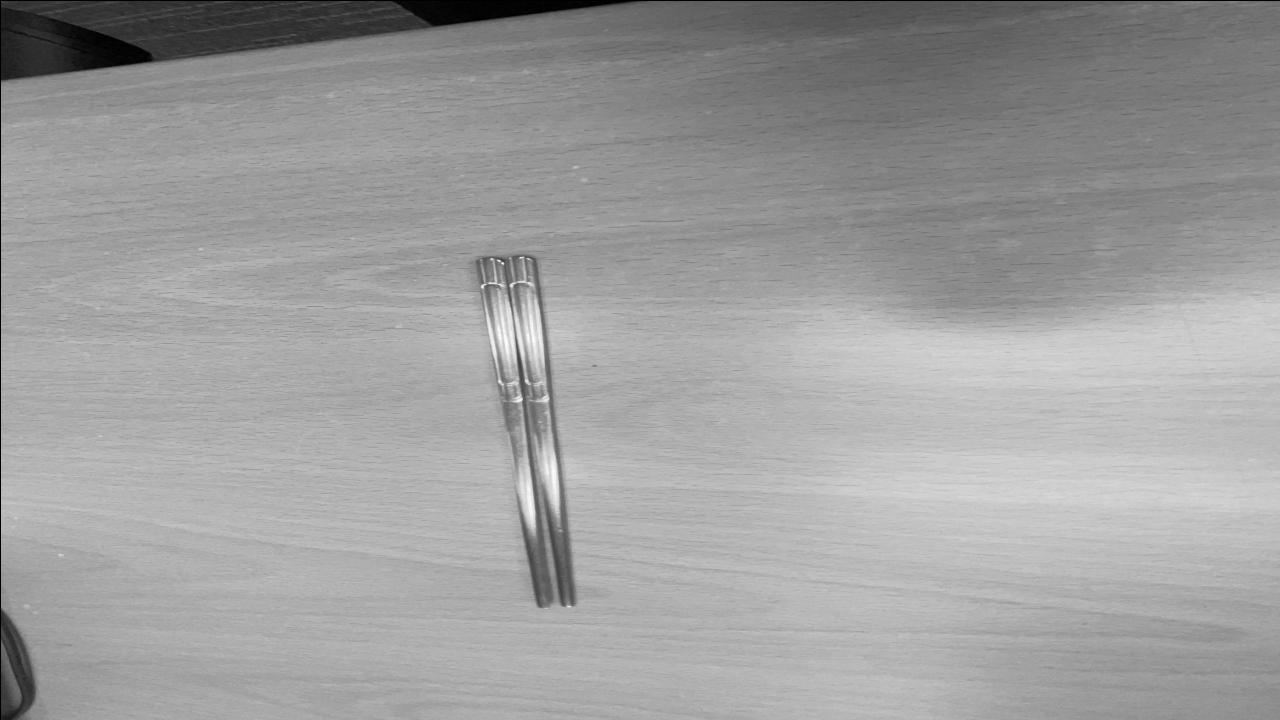chopstick: (464, 252, 584, 610)
